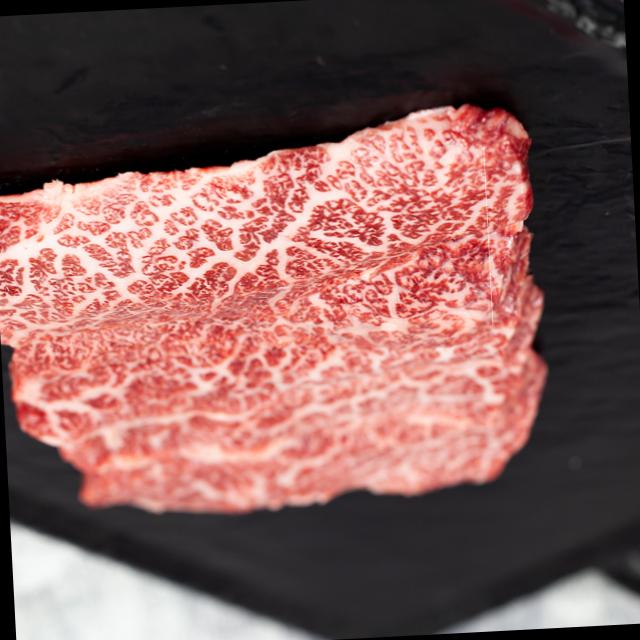beef: (1, 146, 494, 350)
